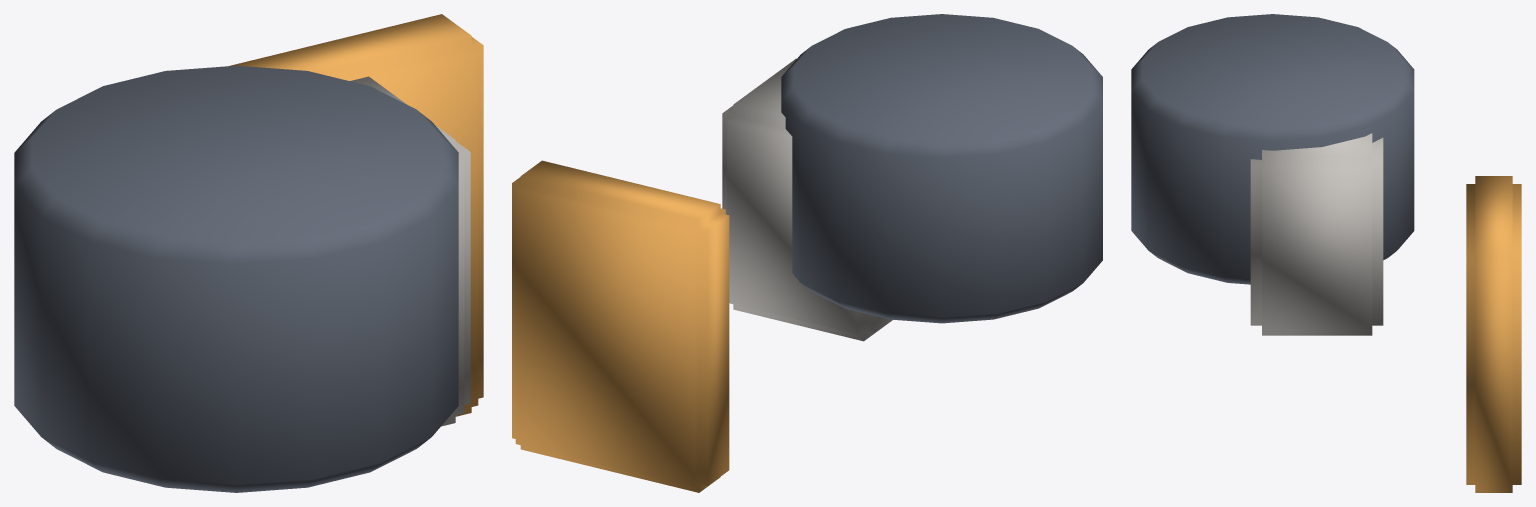
File: gun_drum.glb
3 views of the same model, side by side, from view 1: azimuth 30°, elevation 25°; view 2: azimuth 150°, elevation 25°; view 3: azimuth 270°, elevation 25° (orthographic). The views are drawn at different scales.
Visible parts, largest first — view 1: gun_drum; view 2: gun_drum; view 3: gun_drum.
Boxes of the visible parts, bbox=[...] form: gun_drum: bbox=[14, 14, 483, 492]; gun_drum: bbox=[512, 14, 1102, 492]; gun_drum: bbox=[1131, 14, 1521, 492].
Size of the model in its own units: 0.4 by 0.3 by 0.353.
